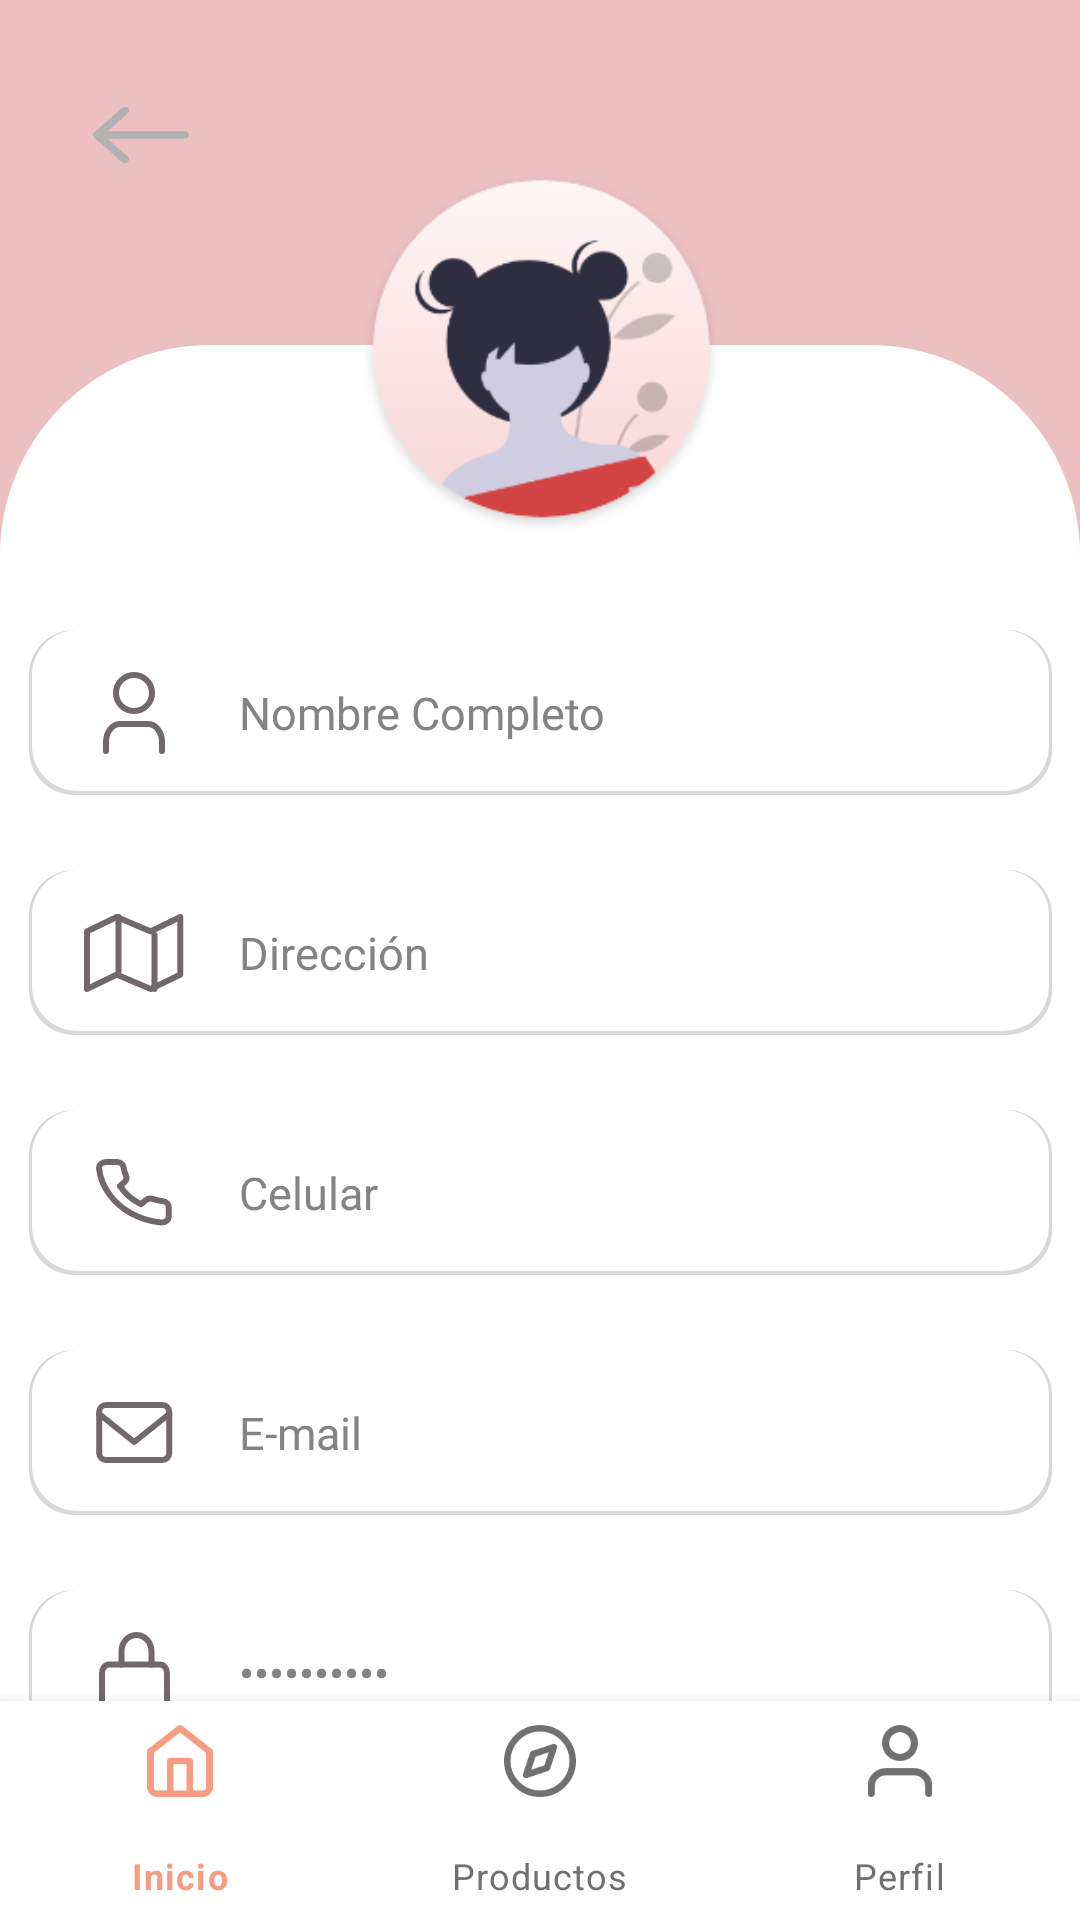

Icons on this 1080 × 1920 Android screen, each with its box as (x1, y1, x2, y2):
back: (93, 107, 189, 163)
map: (60, 871, 184, 992)
phone: (60, 1111, 172, 1226)
